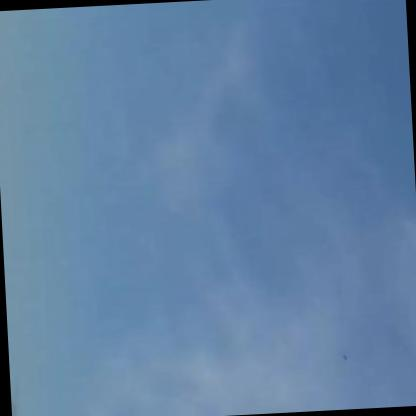plane: (336, 348, 355, 365)
